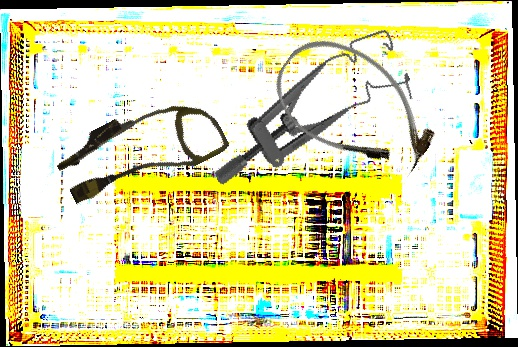Cannula: (257, 18, 453, 198), (50, 78, 231, 222)
Speculum: (188, 25, 423, 189)
